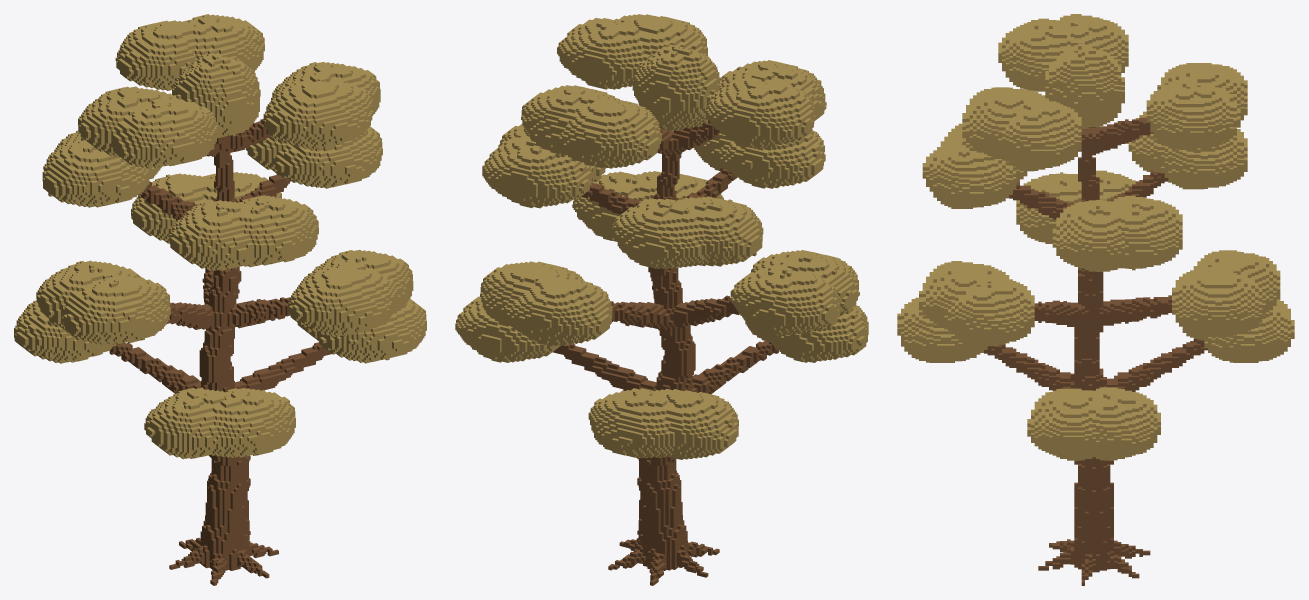
Rendered from visual-far.glb.
3 renders of one model, left to right at view 1: azimuth 30°, elevation 25°; view 2: azimuth 150°, elevation 25°; view 3: azimuth 270°, elevation 25°, orthographic.
Parts seen in each view (by area): view 1: 既有乔木色阶与高度族; view 2: 既有乔木色阶与高度族; view 3: 既有乔木色阶与高度族.
Part boxes in pixels (x1,y1,x2,y2): 既有乔木色阶与高度族: (14,14,426,585); 既有乔木色阶与高度族: (455,14,868,585); 既有乔木色阶与高度族: (897,14,1294,585).
Size of the model in its own units: 23 by 31 by 22.
3 materials, 3 textured.
